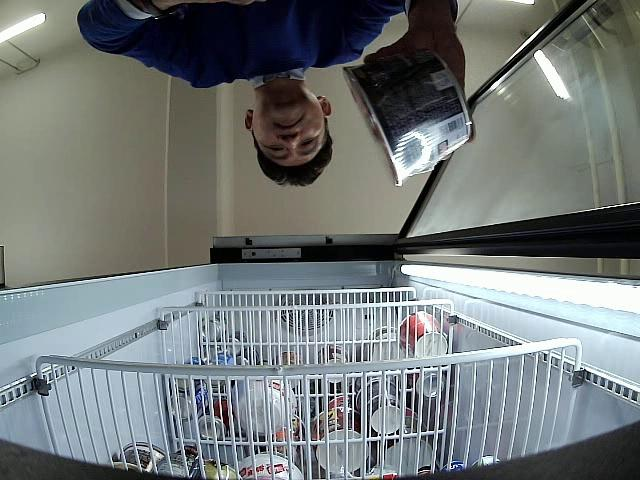07_buldak_L: (344, 46, 475, 186)
